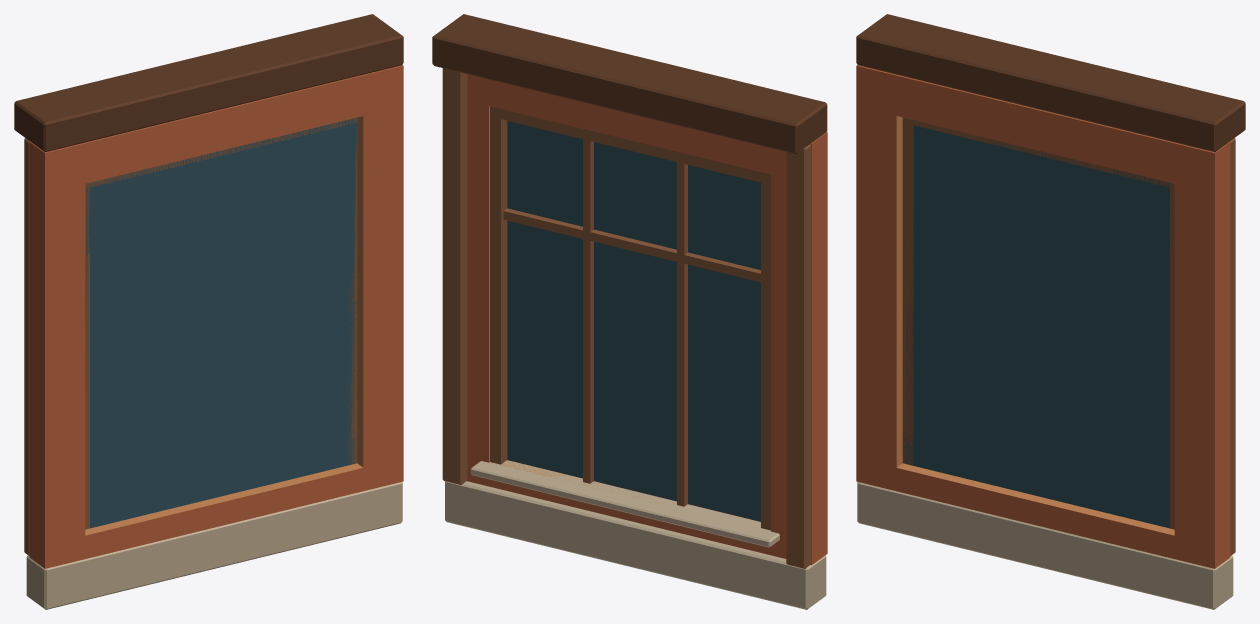
File: hall_window_wall.glb
3 views of the same model, side by side, from view 1: azimuth 30°, elevation 25°; view 2: azimuth 150°, elevation 25°; view 3: azimuth 330°, elevation 25° (orthographic).
Parts seen in each view (by area): view 1: wall; view 2: wall; view 3: wall.
Boxes of the visible parts, <box> form: wall: <box>14,14,403,609</box>; wall: <box>432,14,827,609</box>; wall: <box>856,14,1245,609</box>.
Bounding box in the file's own units: 4.02 × 5.2 × 0.6.
